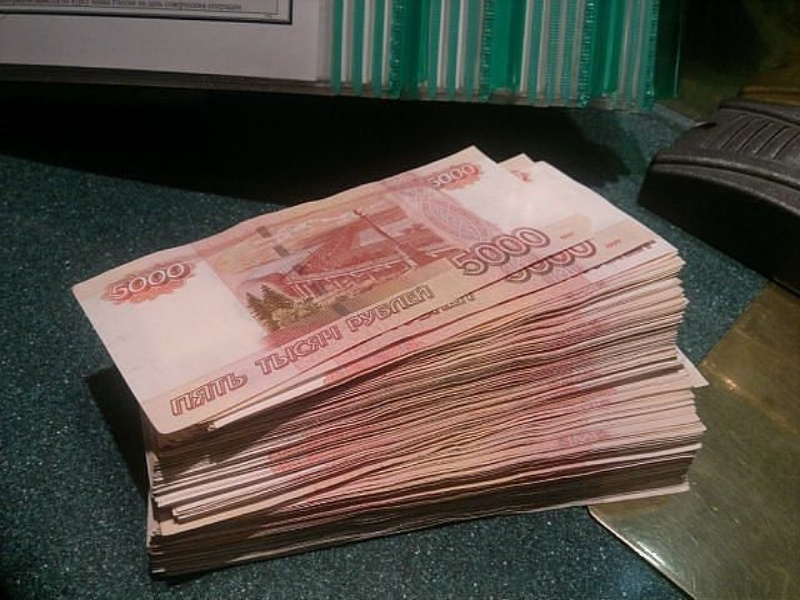cash: (73, 145, 711, 580)
